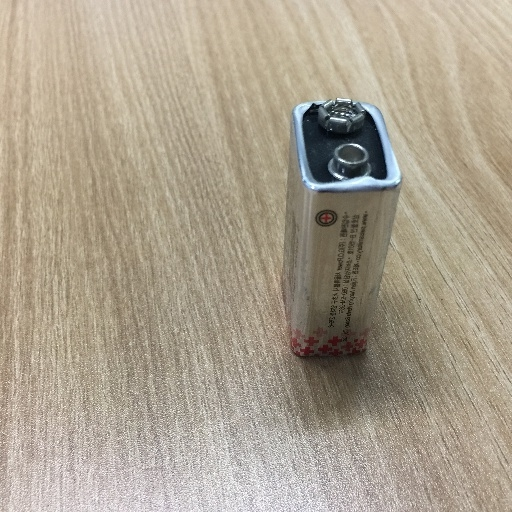Battery_3: (268, 85, 409, 385)
